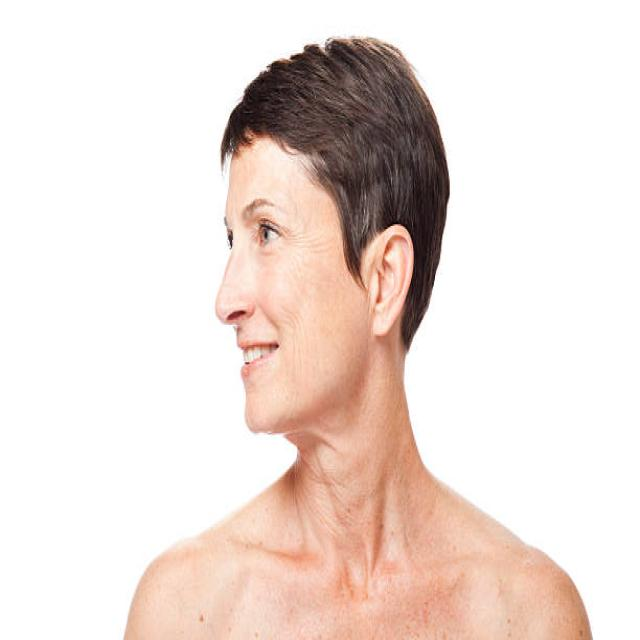Dry-Skin: (279, 201, 349, 389)
